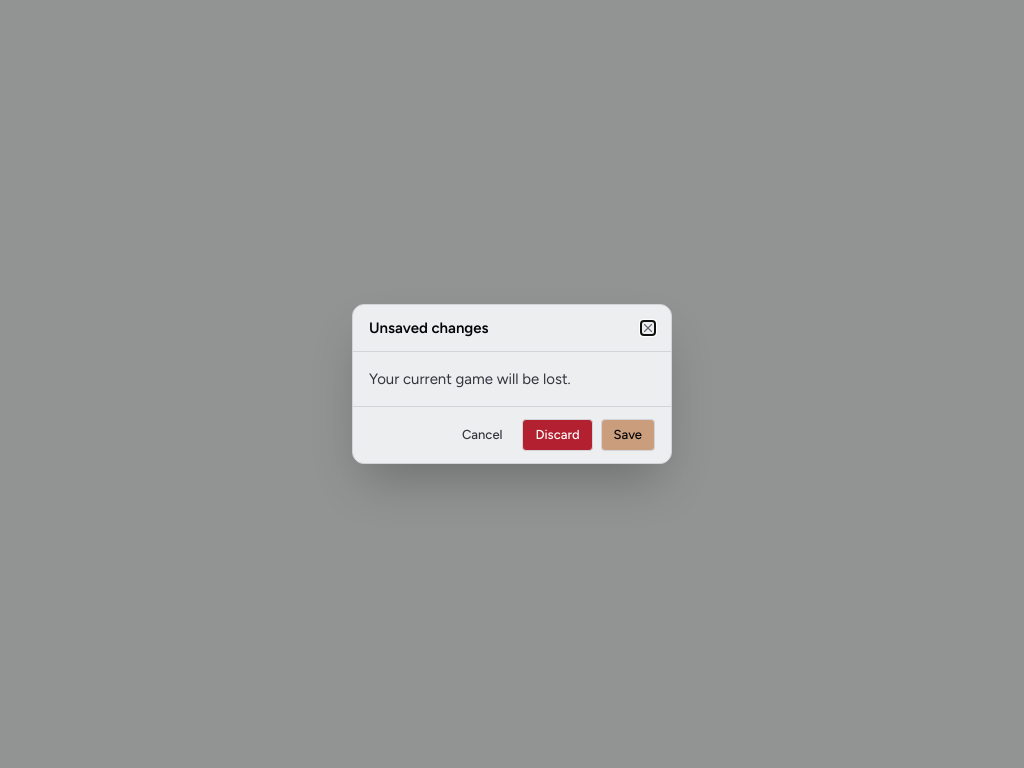
BoardStateGuardModal › Save shows SaveGameDialog without navigating when already on /board
Click the button "Save": (628, 435) x1=601 y1=419 x2=655 y2=451
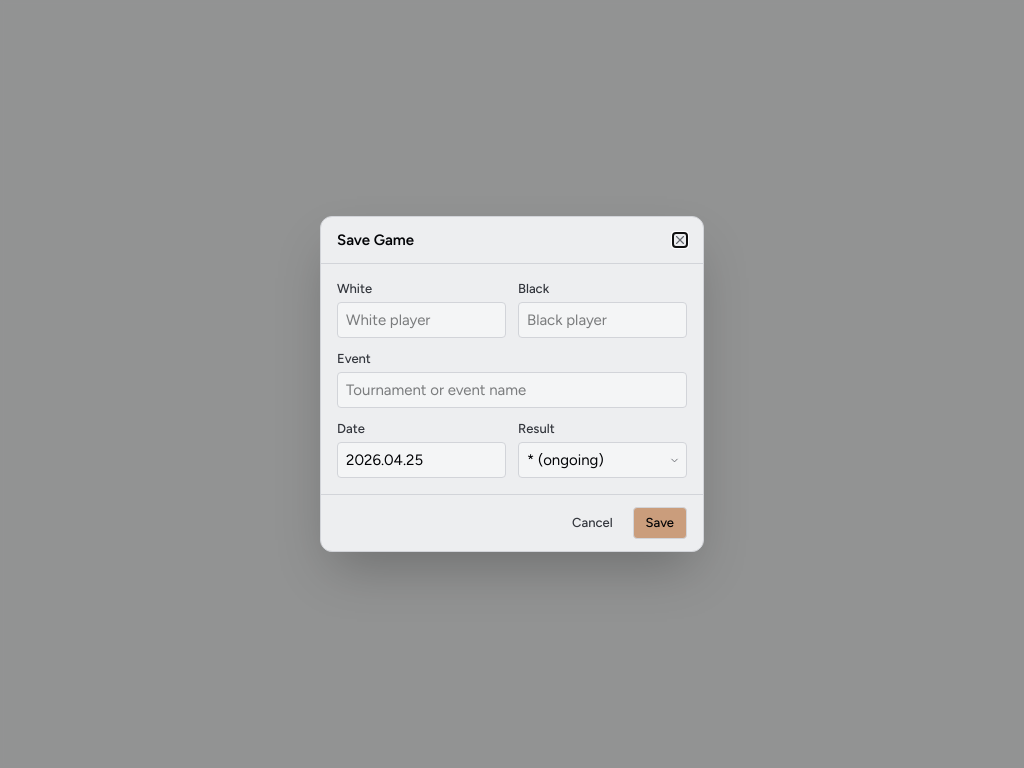
expect the heading "Save Game" is shown: met, box x1=337 y1=229 x2=414 y2=251
